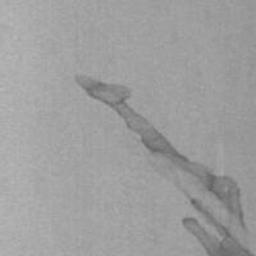Water spot: (76, 76, 256, 256)
